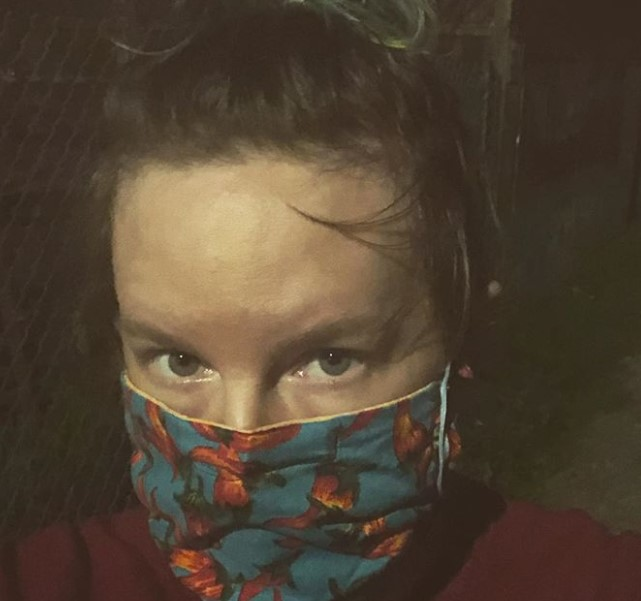face_with_mask: (102, 33, 515, 597)
